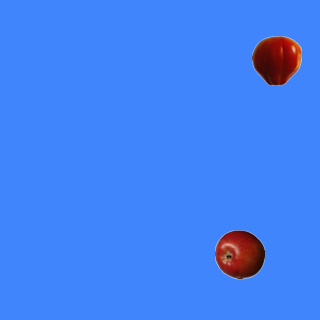Apple Braeburn: (214, 229, 264, 279)
Tomato 1: (251, 35, 301, 85)
